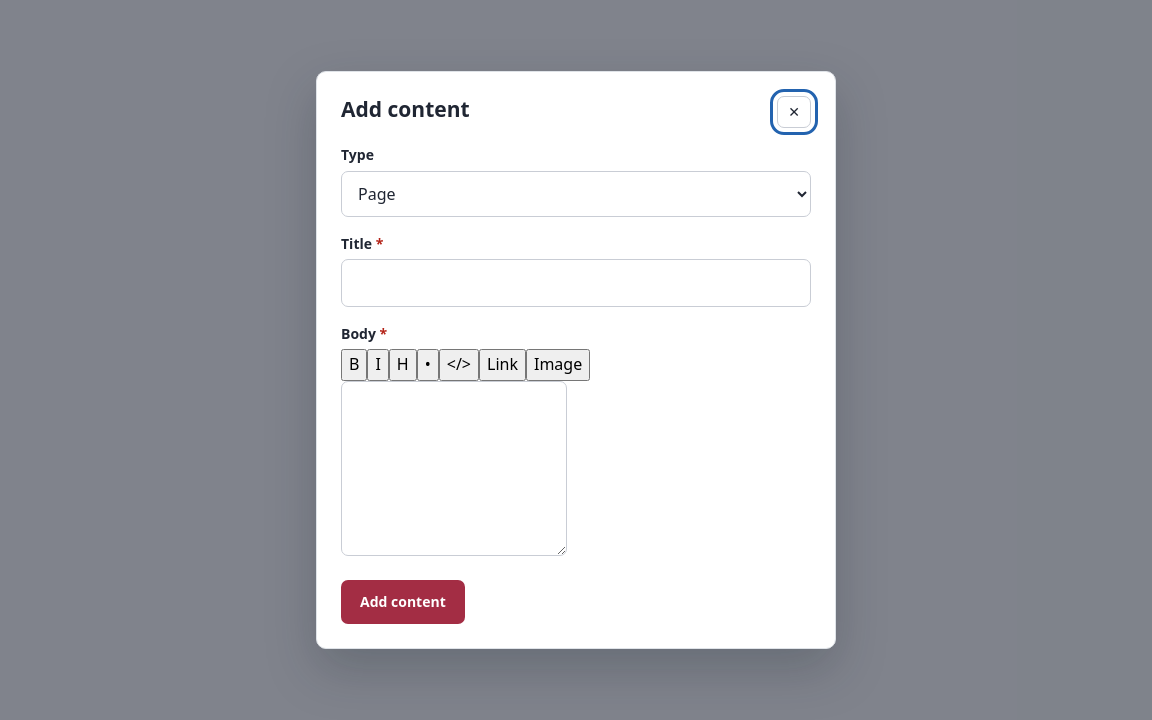
Test case: CreateContentModal › creates a quiz with unlimited attempts
The image size is (1152, 720).
Later steps or results of the test are not shown.
Select "Quiz" in the dropdown labelled "Type" at (576, 194), box 341,171 -> 811,217
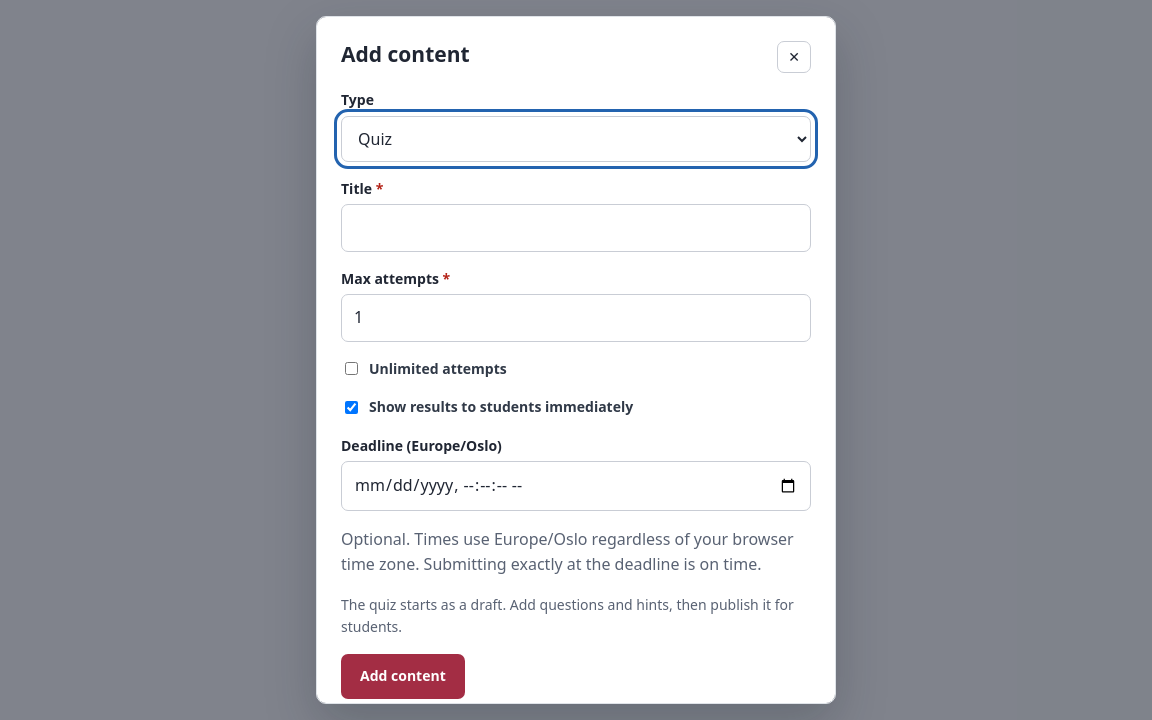
Type "Practice quiz" into the field labelled "Title *" at (576, 228), box 341,204 -> 811,252
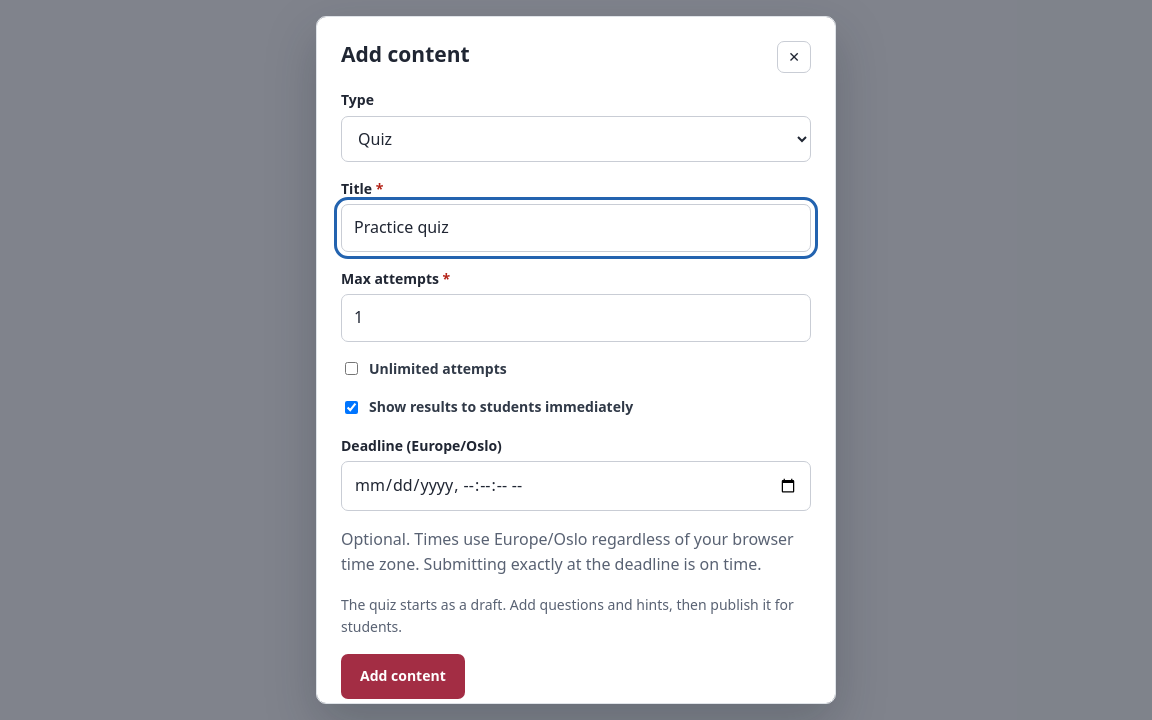
Click the checkbox labelled "Unlimited attempts" at (352, 369), box 345,362 -> 358,375
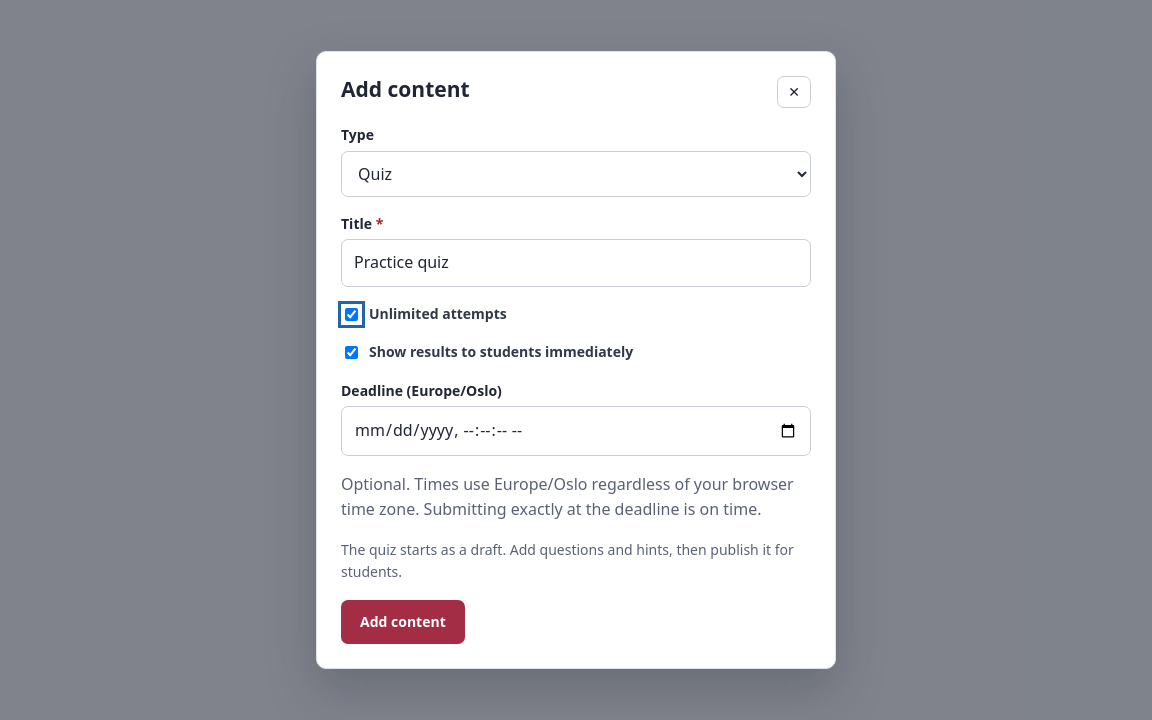
expect the label labelled "Max attempts" is gone: met
